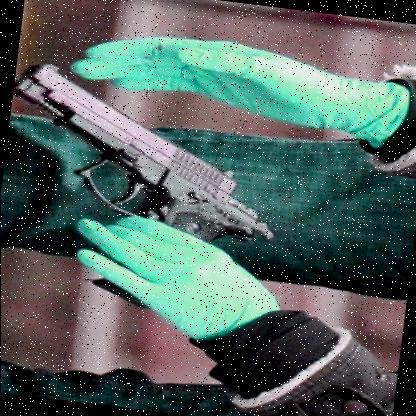rifle: (0, 50, 294, 316)
